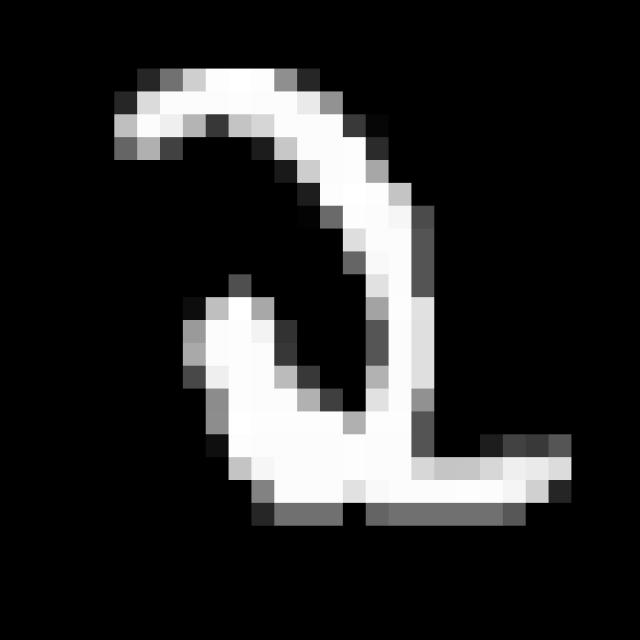two -2-: (101, 52, 587, 542)
